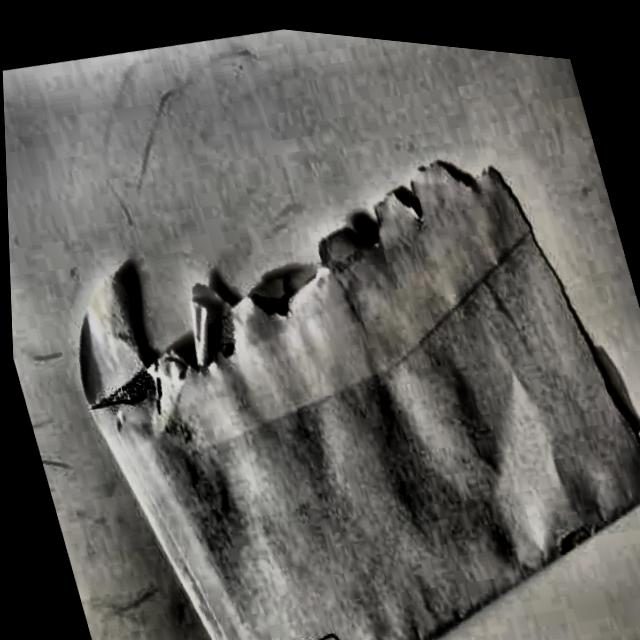Paper: (27, 84, 640, 640)
